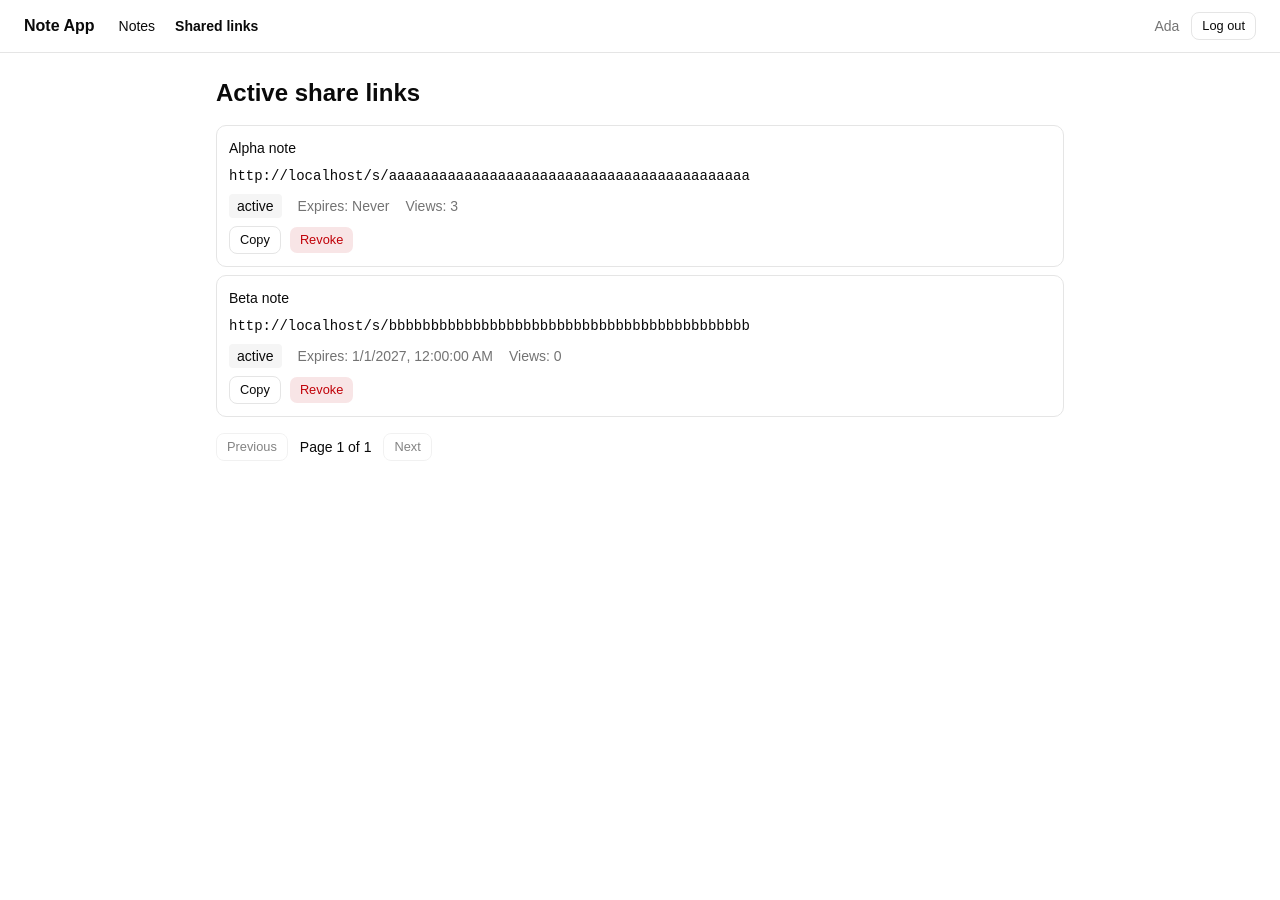
Test: active share links page › S-AB1014-03: active links page lists links across notes and revokes one
This screenshot has width=1280, height=900.
Check: the number of list items is 2, box x1=216 y1=125 x2=1064 y2=267; x1=216 y1=275 x2=1064 y2=417
Check: the text "Alpha note" is shown, box x1=229 y1=140 x2=296 y2=156
Click the button "Revoke" below "Alpha note" at (322, 240), box x1=289 y1=226 x2=354 y2=254
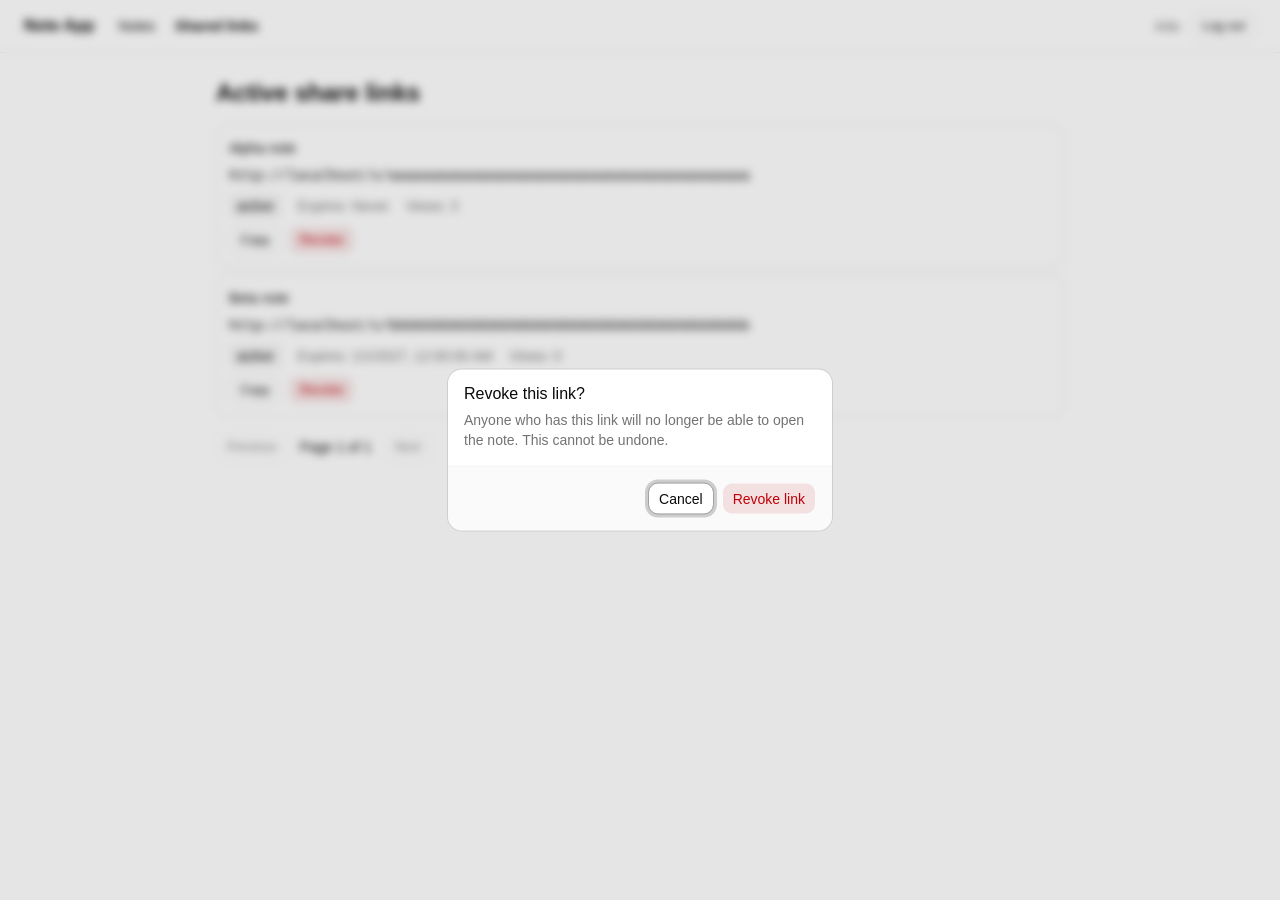
Click the button "Revoke link" at (769, 498), box x1=722 y1=482 x2=816 y2=514
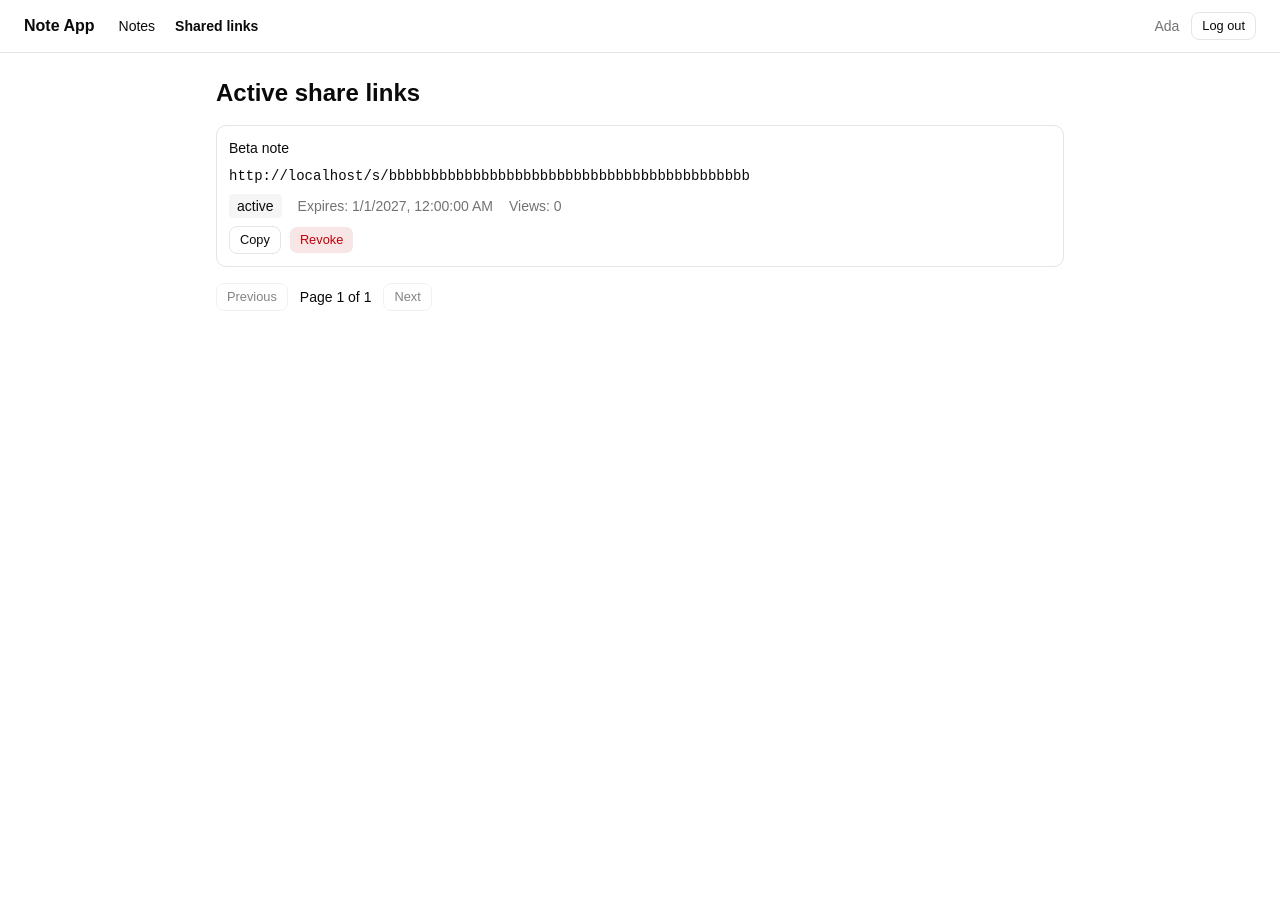
Check: the text "Beta note" is shown, box x1=229 y1=140 x2=289 y2=156
Check: the text "Alpha note" is gone
Click the button "Revoke" at (322, 240), box x1=289 y1=226 x2=354 y2=254
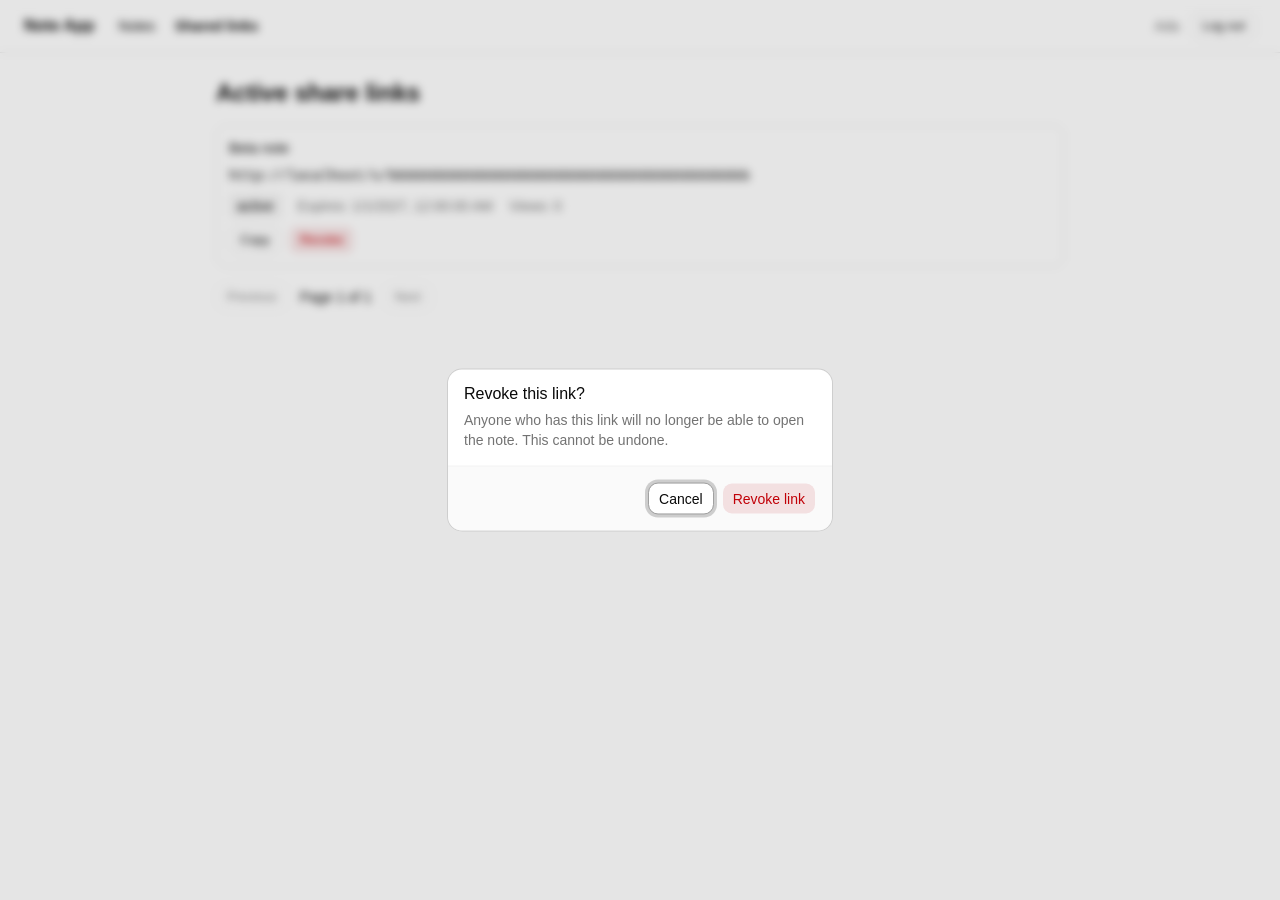
Click the button "Revoke link" at (769, 498), box x1=722 y1=482 x2=816 y2=514
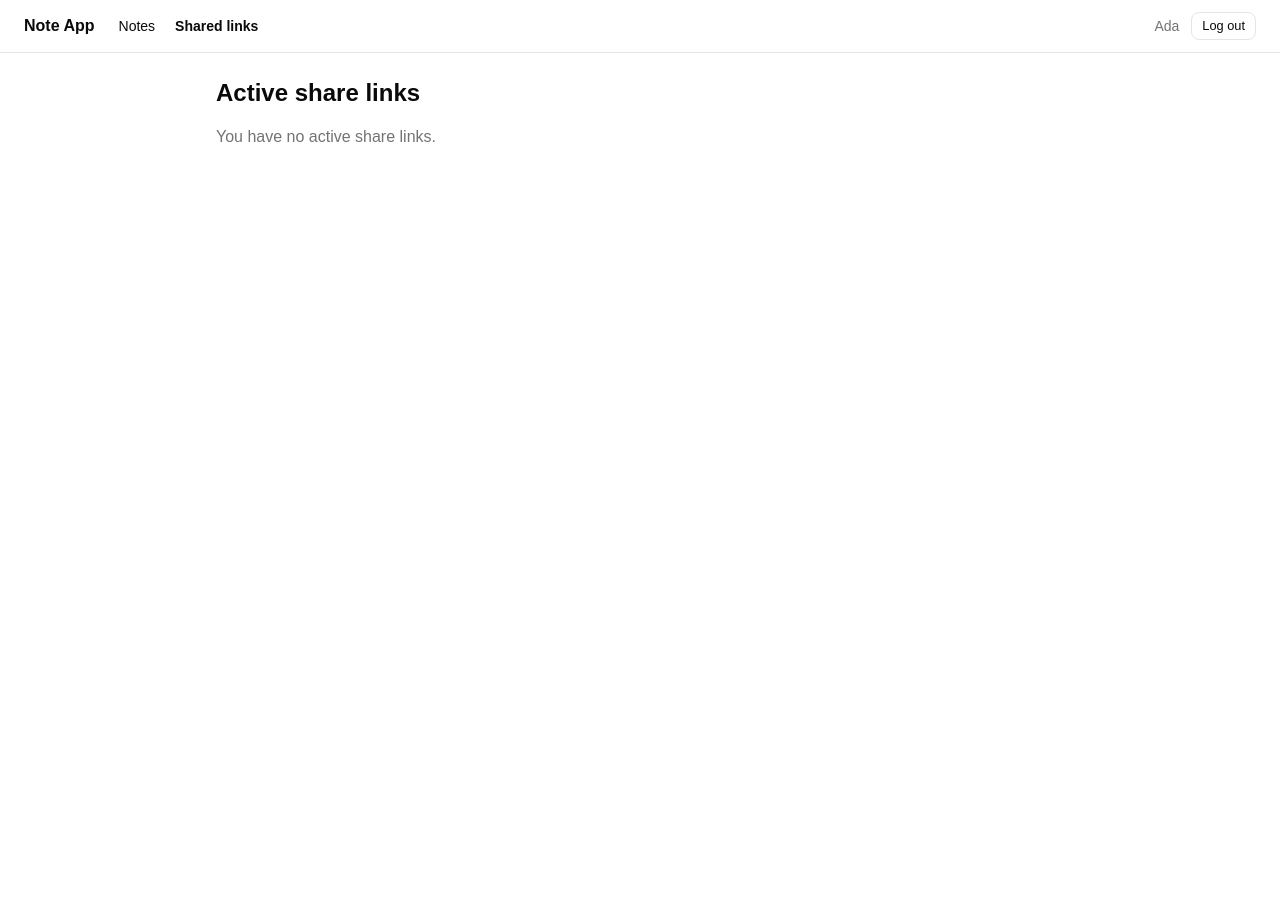
Check: the text "You have no active share links." is shown, box x1=216 y1=128 x2=436 y2=145
